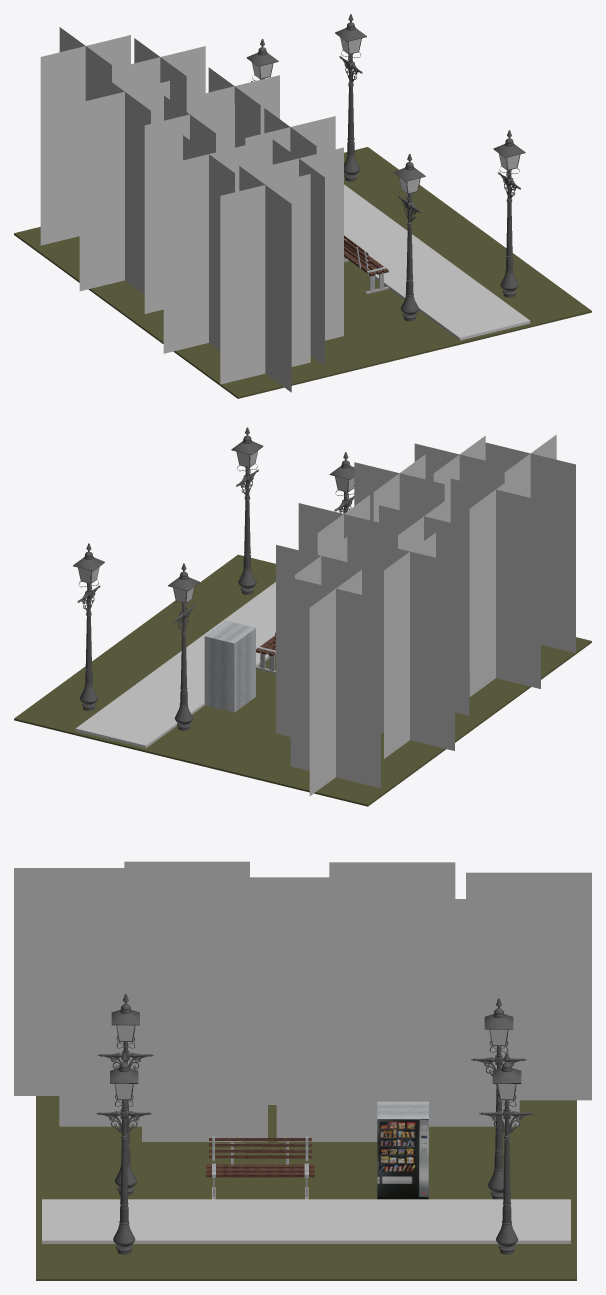
Rendered from MayaGame.fbx.
3 views of the same model, one above another, from view 1: azimuth 30°, elevation 25°; view 2: azimuth 150°, elevation 25°; view 3: azimuth 270°, elevation 25° (orthographic). The views are drawn at different scales.
Parts seen in each view (by area): view 1: Chão_de_grama, pPlane10, pPlane8, pPlane4, pPlane9, Caminho, pPlane3, pPlane5, Tree02:pPlane3, pPlane6, pPlane7, Poste_01 (+4 smaller); view 2: Chão_de_grama, pPlane9, pPlane8, pPlane4, pPlane10, Caminho, pPlane5, Tree02:pPlane3, Maquina, pPlane6, pPlane7, pPlane3 (+5 smaller); view 3: Chão_de_grama, pPlane7, pPlane6, Tree02:pPlane3, Caminho, pPlane9, pPlane3, pPlane10, pPlane5, Maquina, pPlane4, pPlane8 (+5 smaller).
Part boxes in pixels (bbox=[...]): Chão_de_grama: bbox=[14, 147, 591, 398]; pPlane10: bbox=[220, 166, 310, 392]; pPlane8: bbox=[79, 73, 169, 294]; pPlane4: bbox=[163, 135, 253, 353]; pPlane9: bbox=[40, 27, 130, 245]; Caminho: bbox=[344, 184, 530, 340]; pPlane3: bbox=[253, 139, 343, 365]; pPlane5: bbox=[144, 95, 234, 313]; Tree02:pPlane3: bbox=[115, 38, 205, 113]; pPlane6: bbox=[189, 67, 279, 147]; pPlane7: bbox=[245, 108, 335, 169]; Poste_01: bbox=[393, 154, 425, 321]; Chão_de_grama: bbox=[14, 554, 591, 806]; pPlane9: bbox=[290, 570, 380, 795]; pPlane8: bbox=[364, 532, 454, 758]; pPlane4: bbox=[450, 470, 540, 696]; pPlane10: bbox=[485, 434, 575, 652]; Caminho: bbox=[75, 582, 275, 748]; pPlane5: bbox=[379, 497, 469, 715]; Tree02:pPlane3: bbox=[276, 537, 366, 736]; Maquina: bbox=[204, 620, 255, 712]; pPlane6: bbox=[298, 495, 388, 566]; pPlane7: bbox=[354, 454, 444, 522]; pPlane3: bbox=[414, 435, 504, 522]; Chão_de_grama: bbox=[36, 1096, 576, 1280]; pPlane7: bbox=[142, 914, 267, 1141]; pPlane6: bbox=[276, 914, 402, 1141]; Tree02:pPlane3: bbox=[393, 899, 519, 1126]; Caminho: bbox=[42, 1199, 570, 1243]; pPlane9: bbox=[466, 872, 591, 1100]; pPlane3: bbox=[59, 899, 185, 1126]; pPlane10: bbox=[14, 868, 139, 1095]; pPlane5: bbox=[234, 877, 359, 1104]; Maquina: bbox=[377, 1101, 428, 1199]; pPlane4: bbox=[124, 861, 249, 913]; pPlane8: bbox=[329, 862, 455, 913].
Size of the model in its own units: 982 by 490 by 1114.
